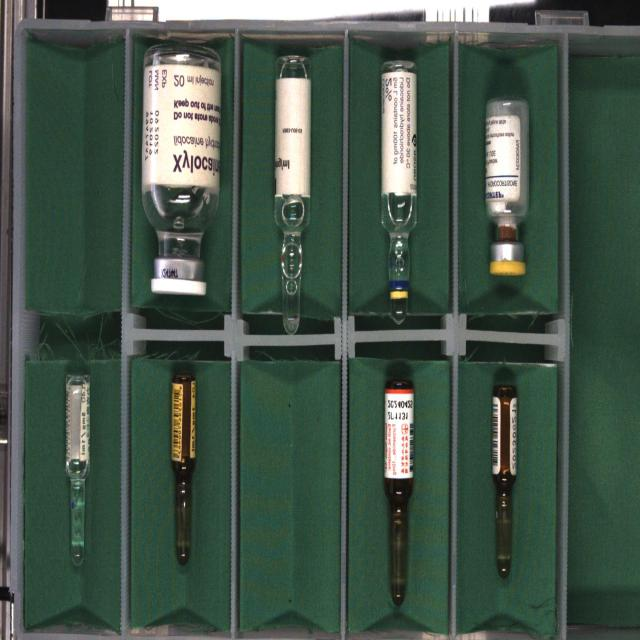Vials: (141, 40, 220, 296), (485, 99, 529, 276)
